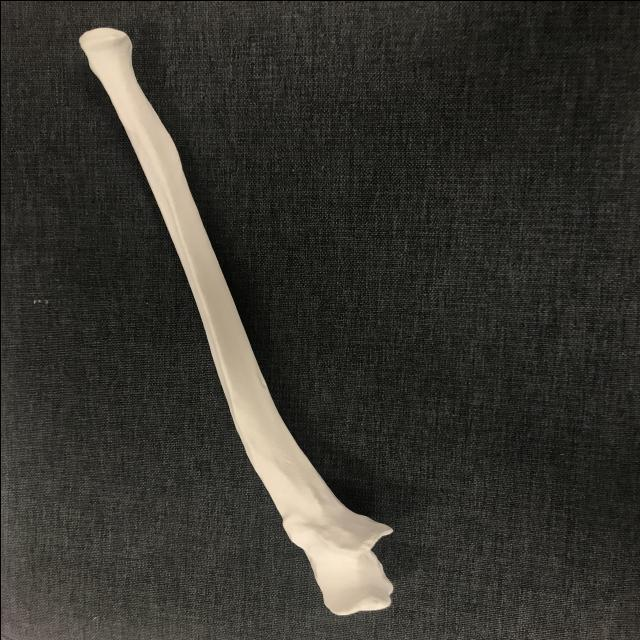bone: (62, 20, 401, 618)
